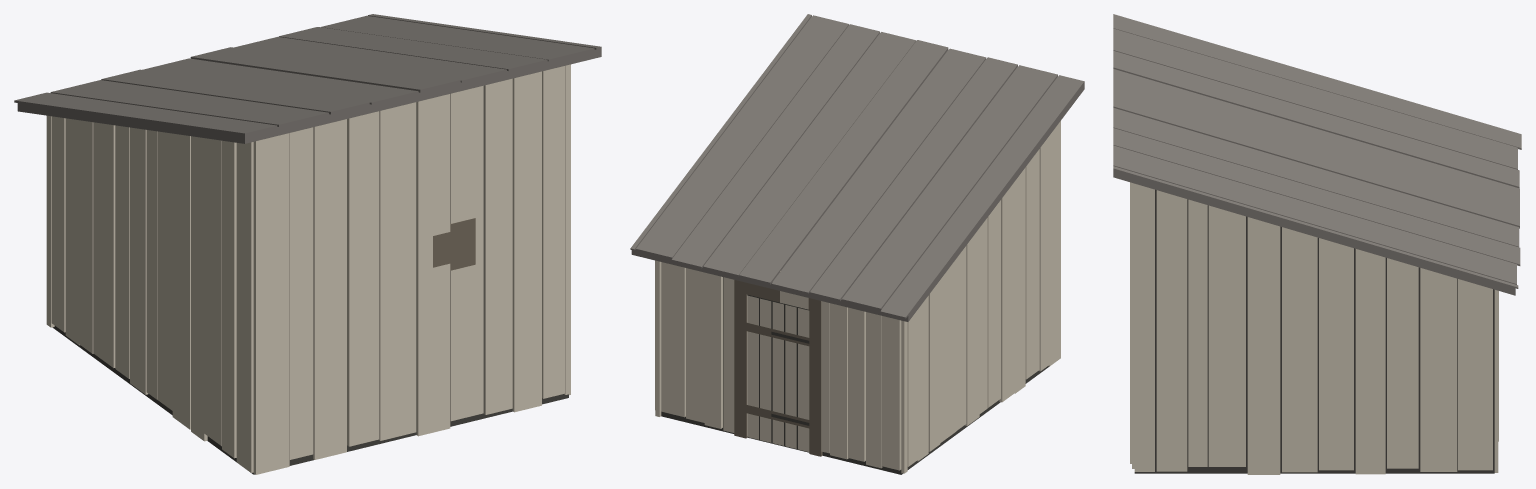
File: recon_1835_blk_randolph_dearborn_a4_13__inferred_1835.glb
3 views of the same model, side by side, from view 1: azimuth 30°, elevation 25°; view 2: azimuth 150°, elevation 25°; view 3: azimuth 270°, elevation 25° (orthographic). The views are drawn at different scales.
Visible parts, largest first — view 1: recon_1835_blk_randolph_dearborn_a4_13__inferred_1835; view 2: recon_1835_blk_randolph_dearborn_a4_13__inferred_1835; view 3: recon_1835_blk_randolph_dearborn_a4_13__inferred_1835.
Boxes of the visible parts, left/top/right/bottom form: recon_1835_blk_randolph_dearborn_a4_13__inferred_1835: left=14, top=14, right=601, bottom=474; recon_1835_blk_randolph_dearborn_a4_13__inferred_1835: left=630, top=14, right=1084, bottom=474; recon_1835_blk_randolph_dearborn_a4_13__inferred_1835: left=1113, top=14, right=1521, bottom=474.
Bounding box in the file's own units: 3.77 × 3.6 × 4.22.
